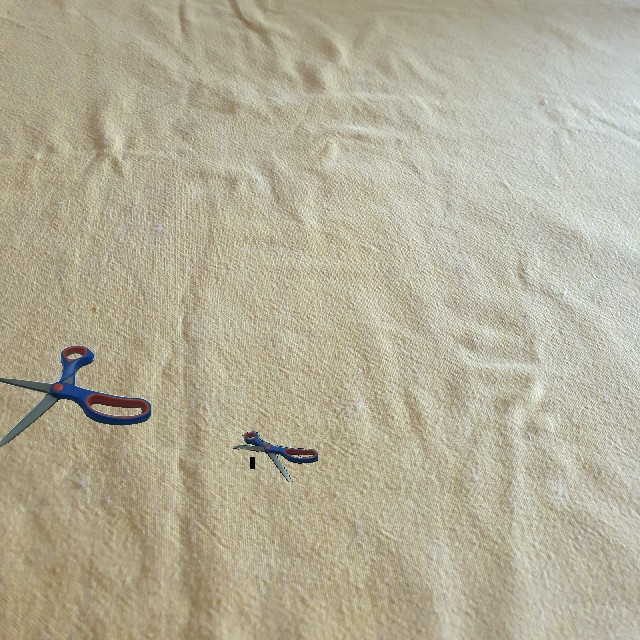scissors: (0, 345, 151, 447), (233, 431, 318, 482)
